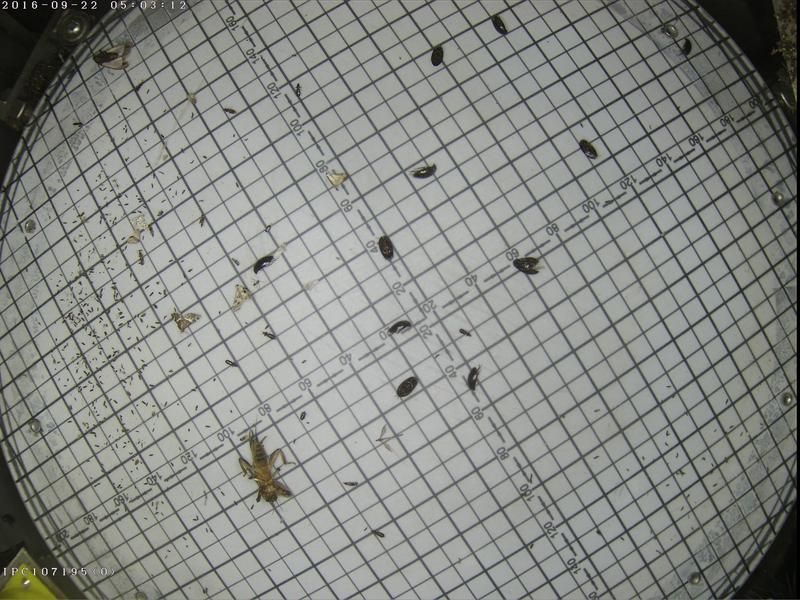Gryllotalpa orientalis: (237, 417, 293, 511)
